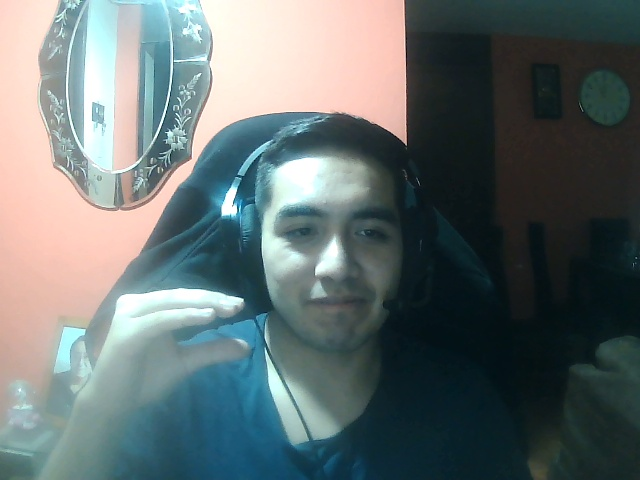no: (100, 285, 254, 410)
